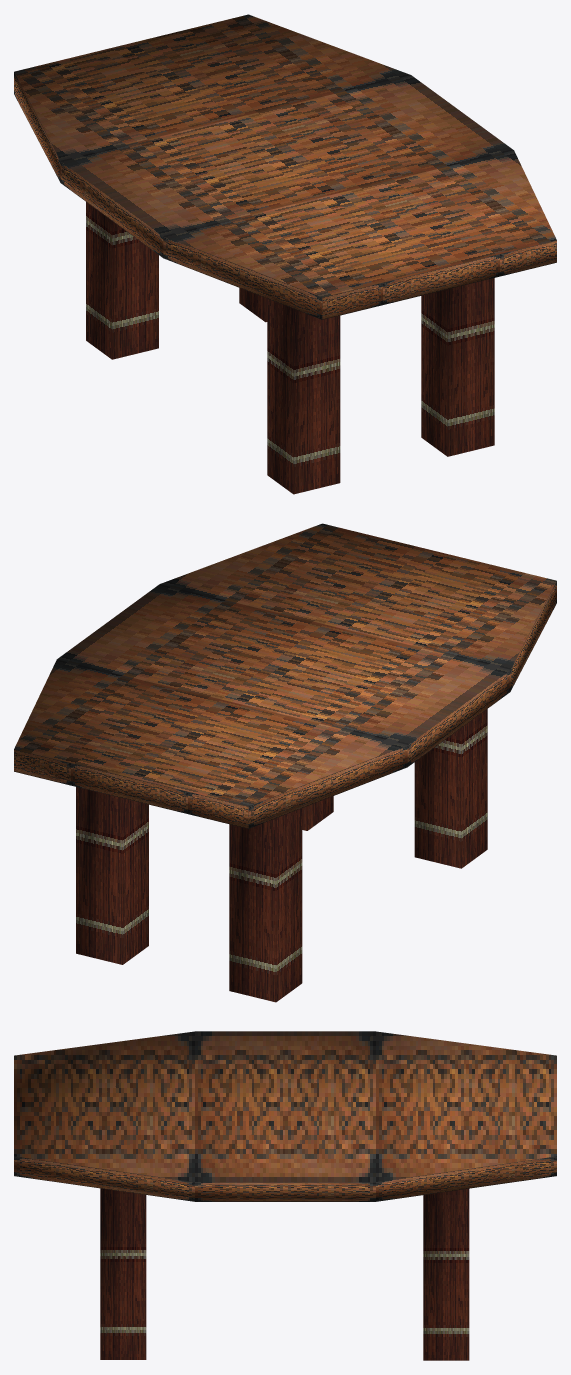
File: CONFTABLE_ACTORDEF.fbx
The picture shows the model from 3 angles, top to bottom: view 1: azimuth 30°, elevation 25°; view 2: azimuth 150°, elevation 25°; view 3: azimuth 270°, elevation 25°; orthographic projection. The views are drawn at different scales.
Parts seen in each view (by area): view 1: U3DMesh; view 2: U3DMesh; view 3: U3DMesh.
Part boxes in pixels (x1,y1,x2,y2): U3DMesh: (14, 14, 556, 494); U3DMesh: (14, 523, 556, 1002); U3DMesh: (14, 1031, 556, 1360).
Bounding box in the file's own units: 5.95 × 3.85 × 9.06.
